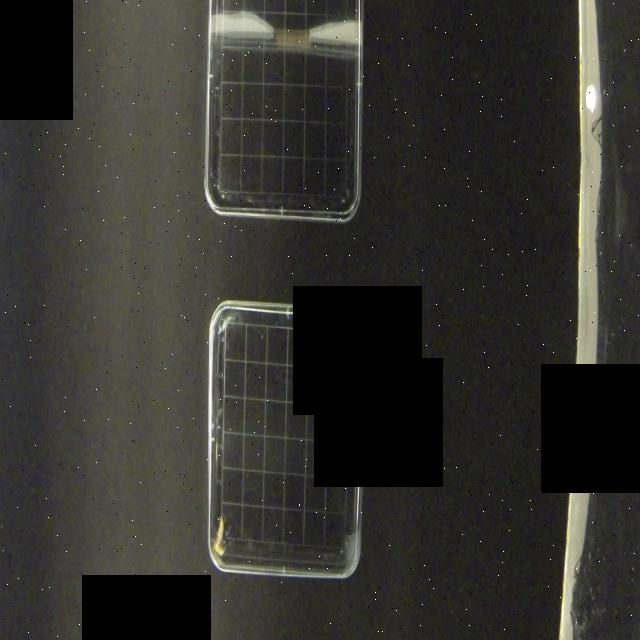larva: (213, 518, 227, 557)
